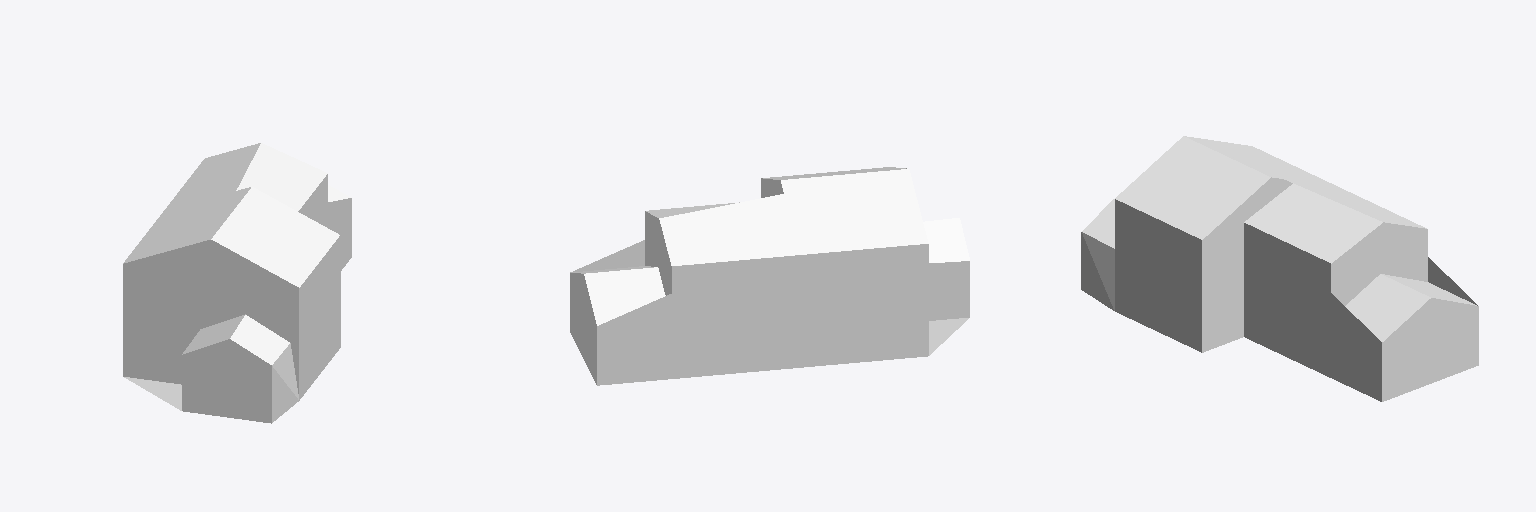
File: house_Shape 214.obj
3 views of the same model, side by side, from view 1: azimuth 30°, elevation 25°; view 2: azimuth 150°, elevation 25°; view 3: azimuth 270°, elevation 25° (orthographic).
Visible parts, largest first — view 1: CityEngineMaterial_8, CityEngineMaterial_95, CityEngineMaterial_106, CityEngineMaterial_107, CityEngineMaterial_105; view 2: CityEngineMaterial_107, CityEngineMaterial_8, CityEngineMaterial_106, CityEngineMaterial_95, CityEngineMaterial_105; view 3: CityEngineMaterial_95, CityEngineMaterial_8, CityEngineMaterial_107, CityEngineMaterial_106.
Part boxes in pixels (x1,y1,x2,y2): CityEngineMaterial_8: (123, 143, 350, 364); CityEngineMaterial_95: (182, 262, 340, 423); CityEngineMaterial_106: (123, 174, 340, 314); CityEngineMaterial_107: (123, 198, 351, 393); CityEngineMaterial_105: (124, 377, 181, 410); CityEngineMaterial_107: (570, 240, 969, 385); CityEngineMaterial_8: (571, 167, 969, 325); CityEngineMaterial_106: (672, 168, 928, 292); CityEngineMaterial_95: (570, 211, 671, 384); CityEngineMaterial_105: (929, 318, 968, 355); CityEngineMaterial_95: (1081, 222, 1478, 401); CityEngineMaterial_8: (1082, 136, 1476, 341); CityEngineMaterial_107: (1244, 252, 1477, 401); CityEngineMaterial_106: (1115, 177, 1330, 291).
Bounding box in the file's own units: 16.16 × 7.84 × 18.91.